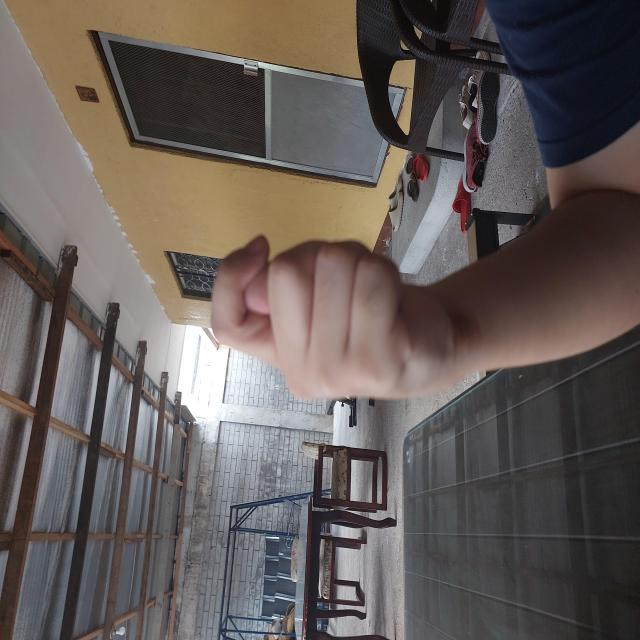T: (236, 207, 410, 459)
